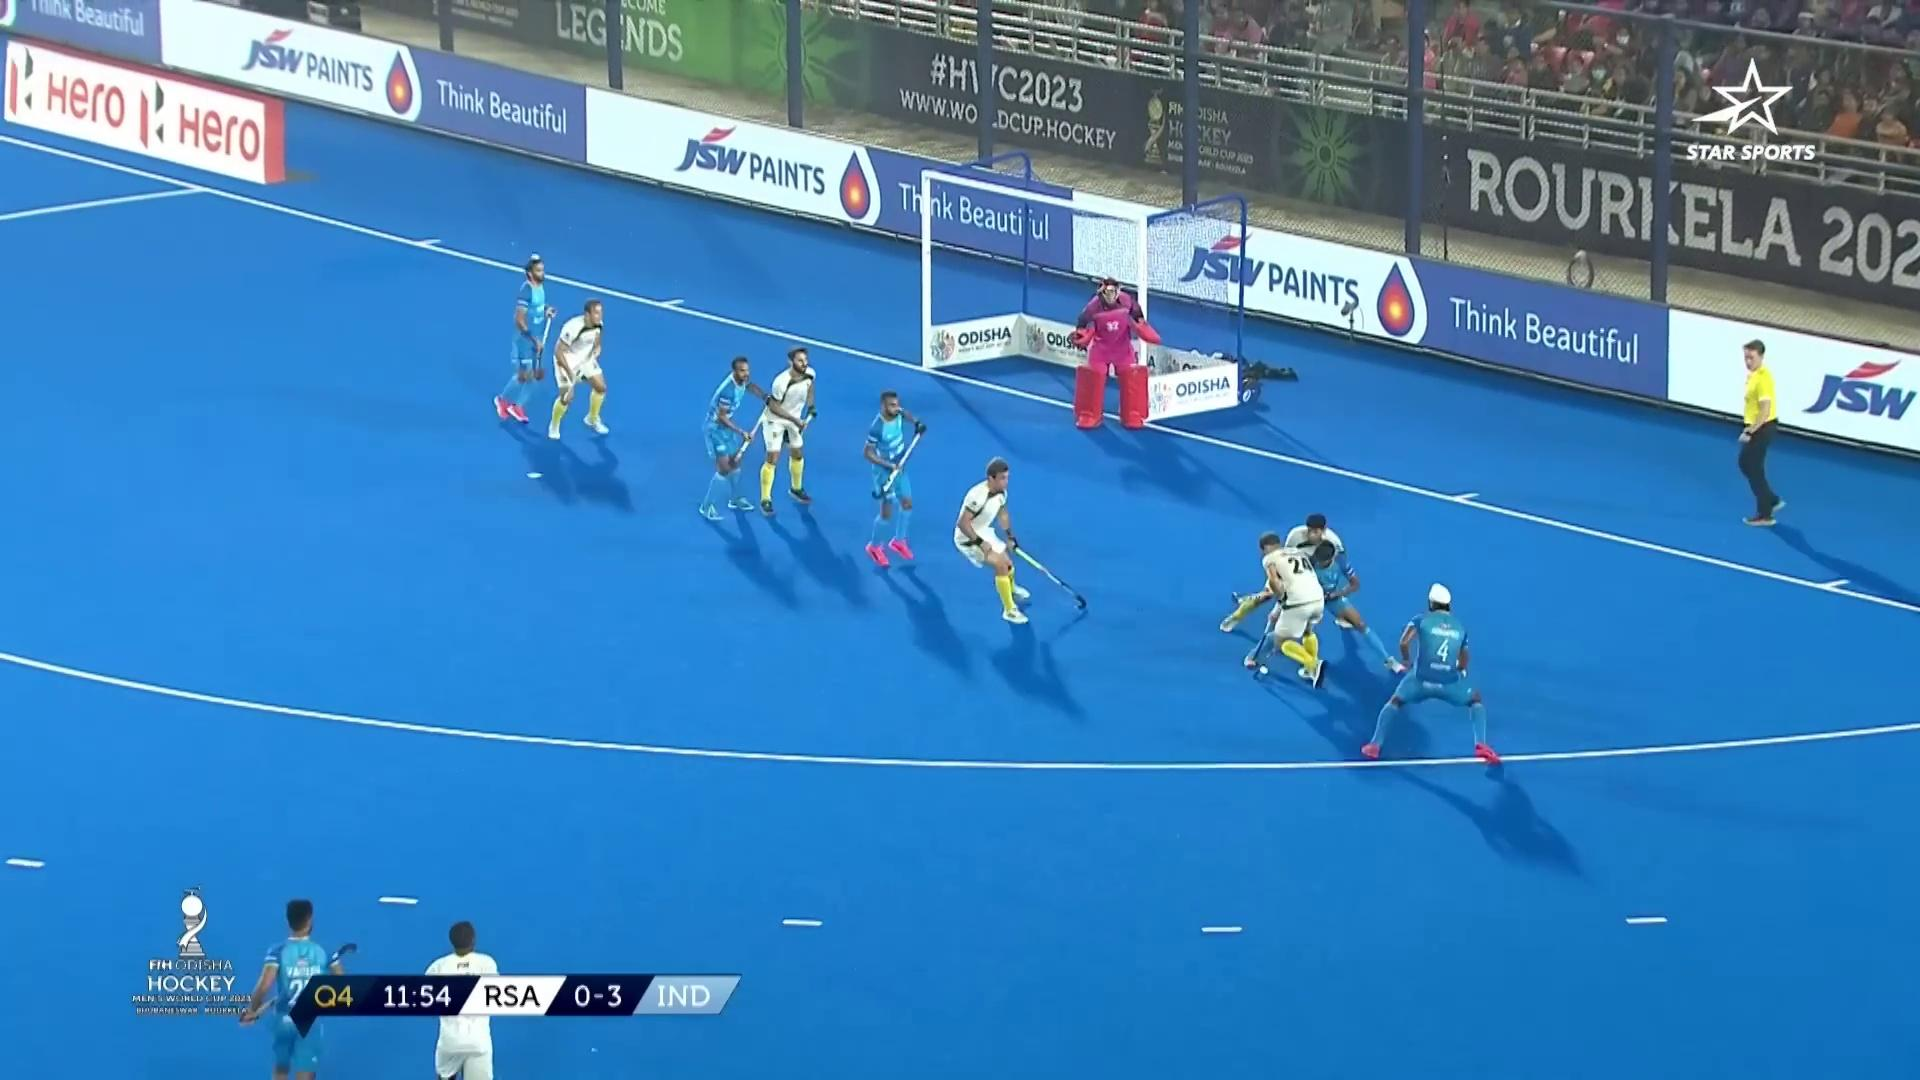ball: (1255, 651, 1286, 686)
